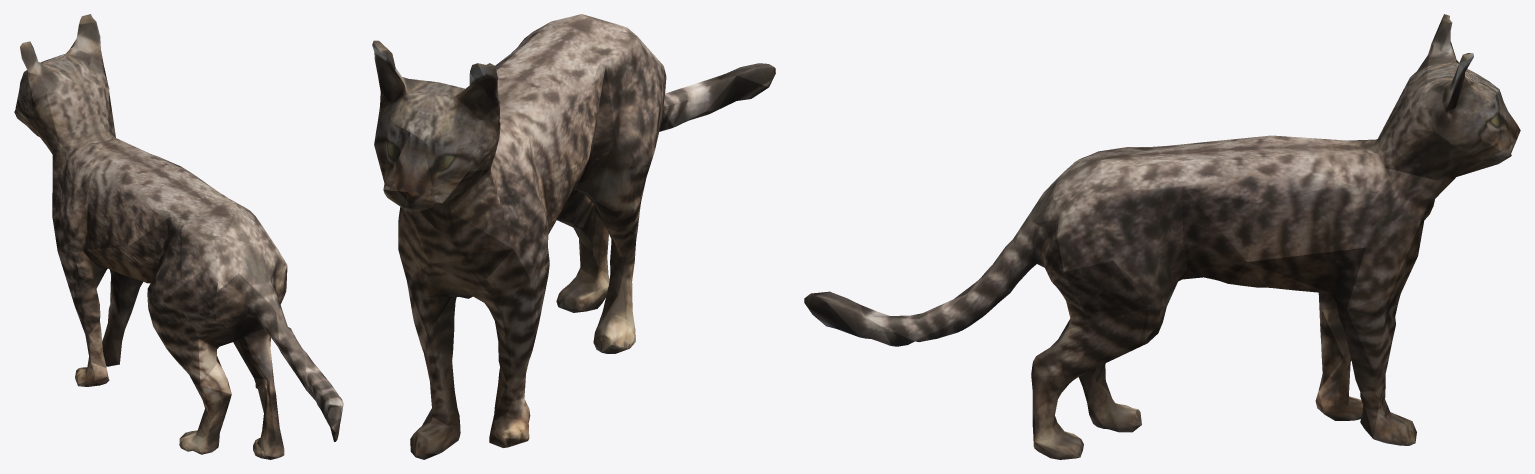
Rendered from Cat.fbx.
3 renders of one model, left to right at view 1: azimuth 30°, elevation 25°; view 2: azimuth 150°, elevation 25°; view 3: azimuth 270°, elevation 25°, orthographic. The views are drawn at different scales.
Parts seen in each view (by area): view 1: Cat; view 2: Cat; view 3: Cat.
Boxes of the visible parts, x1,y1,x2,y2 form: Cat: [14, 14, 343, 459]; Cat: [372, 14, 775, 459]; Cat: [804, 14, 1520, 459].
Bounding box in the file's own units: 0.1752 × 0.4572 × 0.7511.
Materials: 1 (1 with a texture image).
